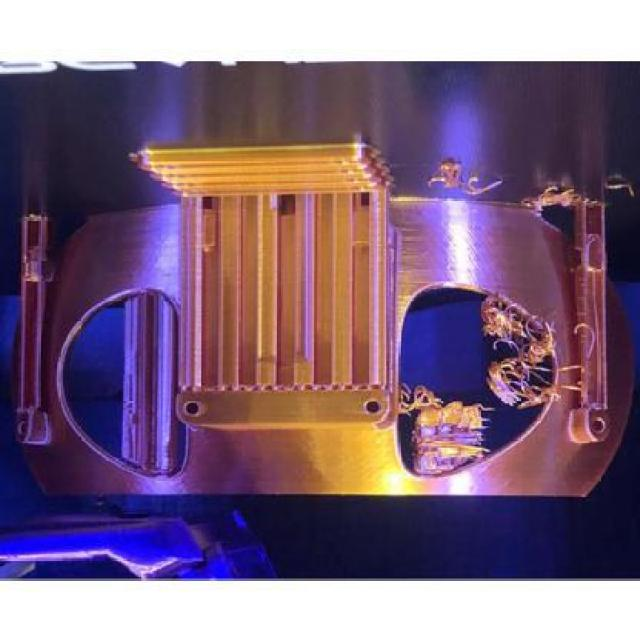Spaghetti: (383, 289, 592, 483), (518, 177, 639, 220), (419, 159, 504, 207)
